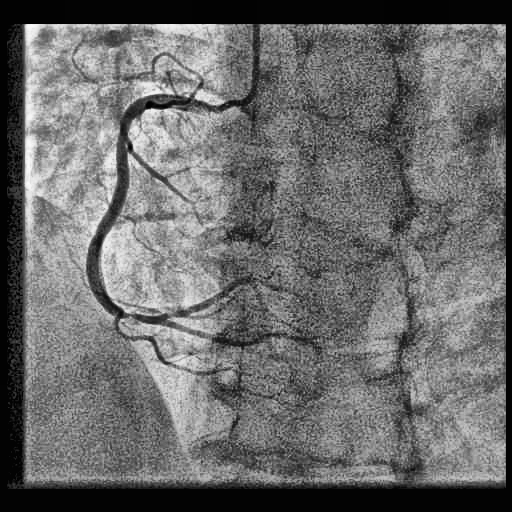pborca: (162, 276, 267, 319)
pda: (159, 319, 302, 347)
rca: (86, 94, 210, 324)
